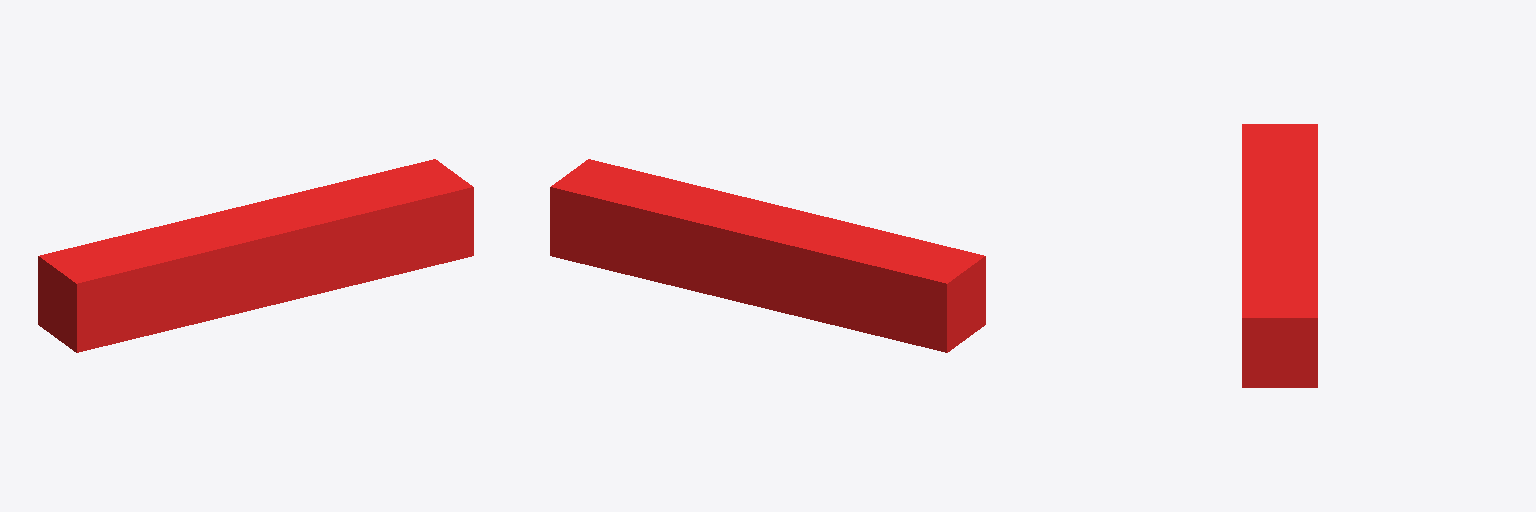
Rendered from dummybar.obj.
The picture shows the model from 3 angles: view 1: azimuth 30°, elevation 25°; view 2: azimuth 150°, elevation 25°; view 3: azimuth 270°, elevation 25°; orthographic projection.
Parts seen in each view (by area): view 1: pCube1; view 2: pCube1; view 3: pCube1.
Part boxes in pixels (x1,y1,x2,y2): pCube1: (38, 159, 473, 352); pCube1: (550, 159, 985, 352); pCube1: (1242, 124, 1317, 387).
Bounding box in the file's own units: 6 × 1 × 1.